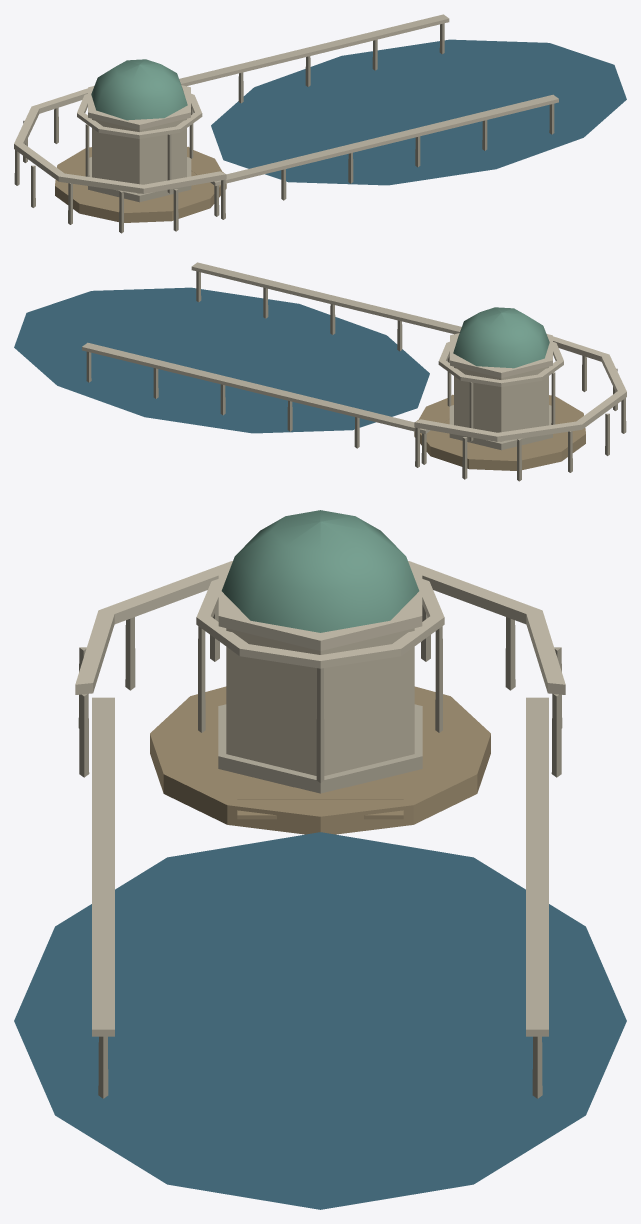
Rendered from mobile-low.glb.
The picture shows the model from 3 angles, top to bottom: view 1: azimuth 30°, elevation 25°; view 2: azimuth 150°, elevation 25°; view 3: azimuth 270°, elevation 25°; orthographic projection. The views are drawn at different scales.
Visible parts, largest first — view 1: lm.palace-fine-arts; view 2: lm.palace-fine-arts; view 3: lm.palace-fine-arts.
Boxes of the visible parts, x1,y1,x2,y2 form: lm.palace-fine-arts: (14, 14, 626, 233); lm.palace-fine-arts: (14, 262, 626, 481); lm.palace-fine-arts: (14, 510, 626, 1209).
Bounding box in the file's own units: 208 × 41.8 × 96.
